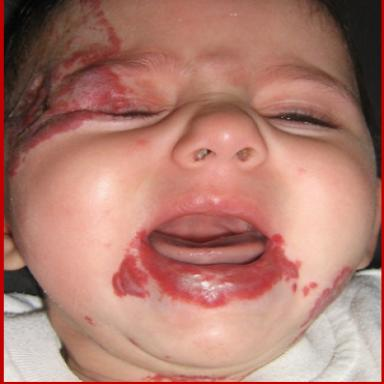Hemangiome: (113, 232, 299, 307), (19, 67, 150, 149)
